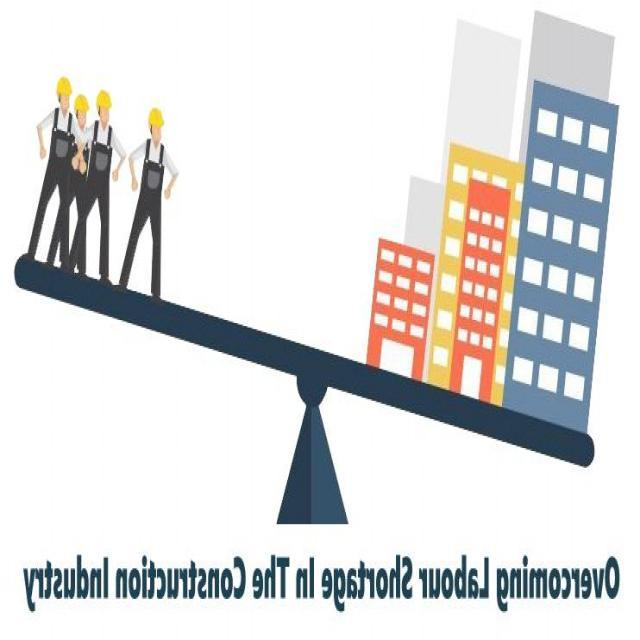reflective_jacket: (51, 107, 77, 165), (90, 122, 114, 177)
safety_helmet: (146, 102, 167, 131), (95, 86, 113, 111), (55, 73, 73, 97), (74, 91, 89, 115)
